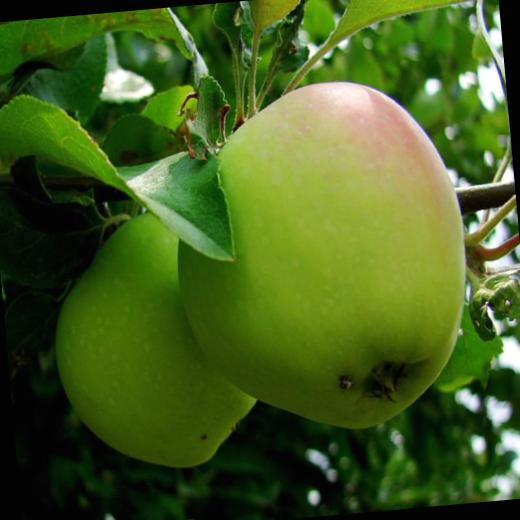Apple: (161, 71, 480, 443), (44, 202, 262, 478)
